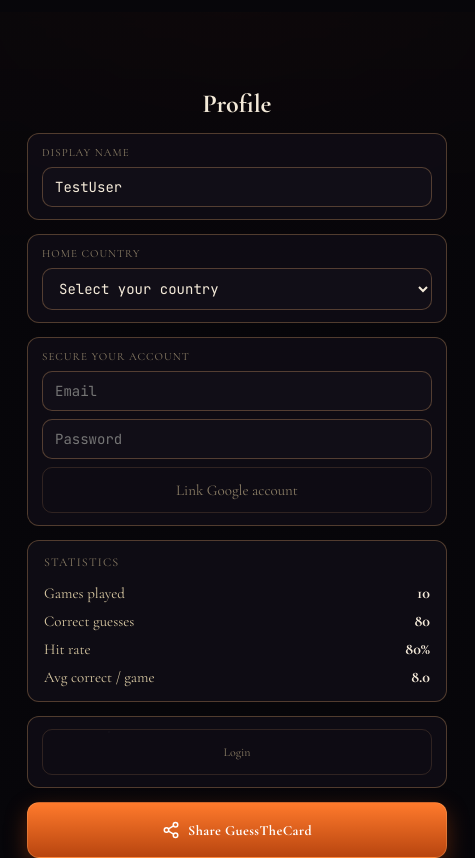
ProfilePanel — anonymous › shows sign-in warning when the Login toggle is clicked
The width and height of the screenshot is (475, 858).
// Wait for the named profile to load (the Login toggle lives in that view).
Click the button with test id "login-toggle" at (237, 752), box [42,729,432,775]
(page scrolled)
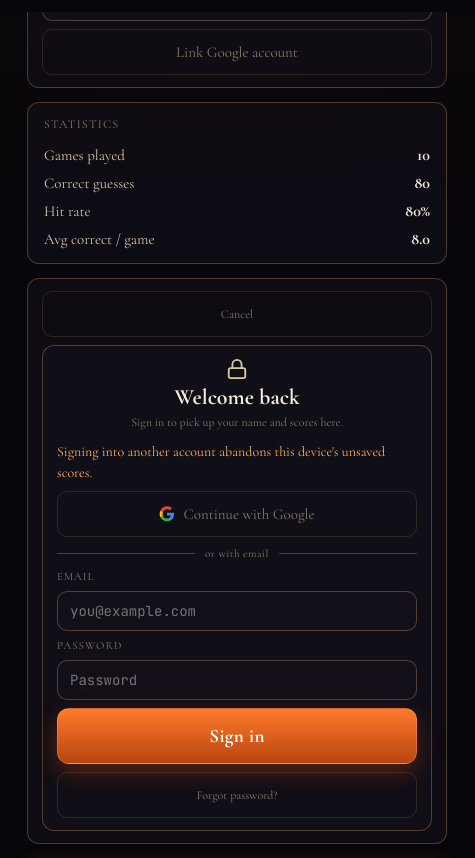
Result: the text with test id "profile-notice" shows "unsaved scores" at [57,443,385,481]
